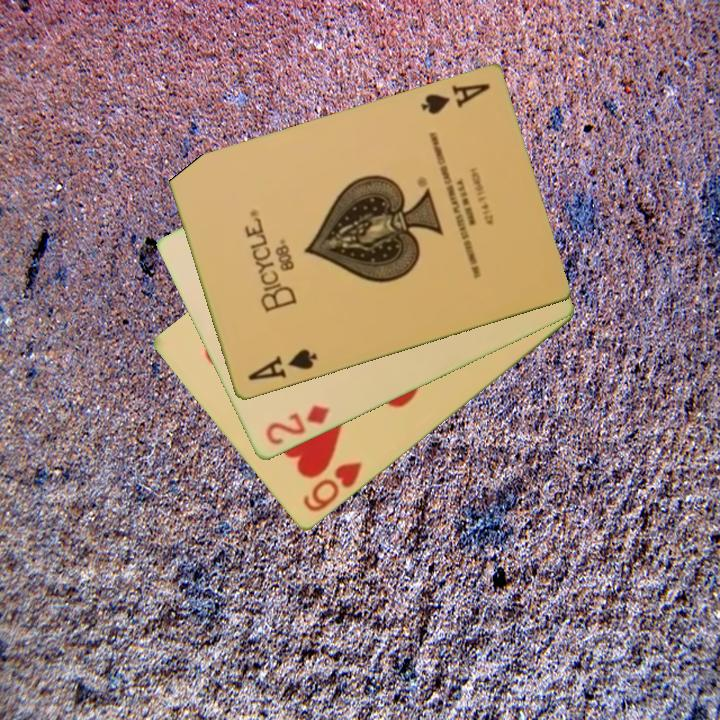2d: (261, 402, 332, 449)
6h: (299, 458, 365, 516)
As: (244, 346, 320, 385), (417, 80, 493, 118)
